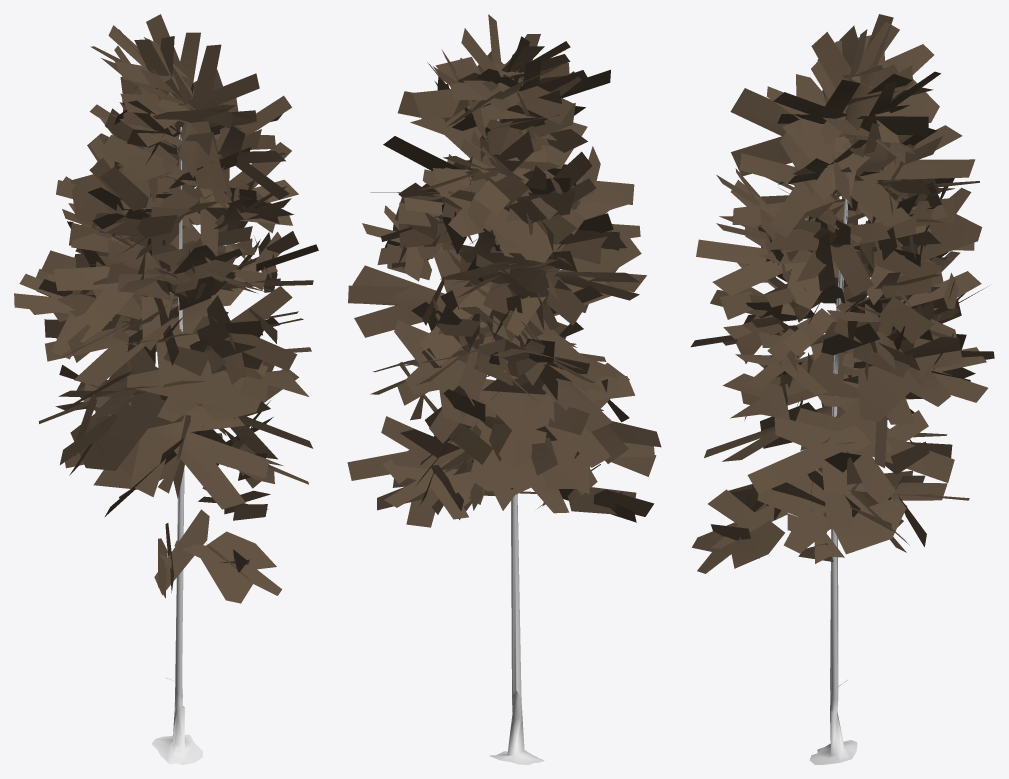
Rendered from fir_a_l.glb.
3 renders of one model, left to right at view 1: azimuth 30°, elevation 25°; view 2: azimuth 150°, elevation 25°; view 3: azimuth 270°, elevation 25°, orthographic. The views are drawn at different scales.
Visible parts, largest first — view 1: fir_tree_01_a_LOD2.002; view 2: fir_tree_01_a_LOD2.002; view 3: fir_tree_01_a_LOD2.002.
Part boxes in pixels (x1=…): fir_tree_01_a_LOD2.002: x1=14, y1=14, x2=318, y2=764; fir_tree_01_a_LOD2.002: x1=347, y1=14, x2=661, y2=764; fir_tree_01_a_LOD2.002: x1=691, y1=14, x2=994, y2=764.
Bounding box in the file's own units: 7.46 × 19.77 × 7.53.
